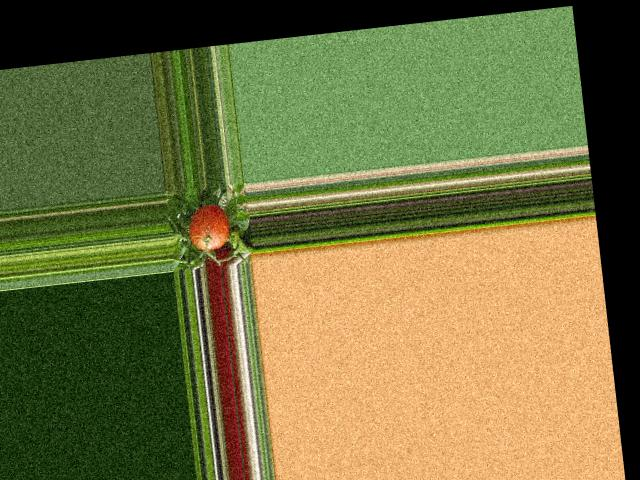tomato: (186, 204, 230, 252)
